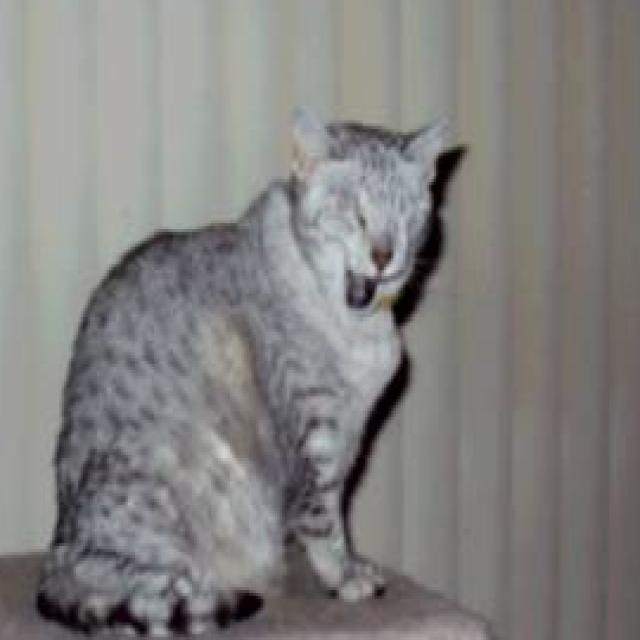Egyptian Mau: (24, 105, 454, 632)
